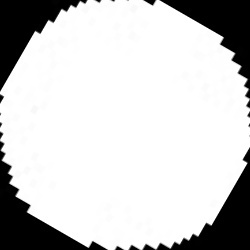spot: (0, 1, 249, 249)
